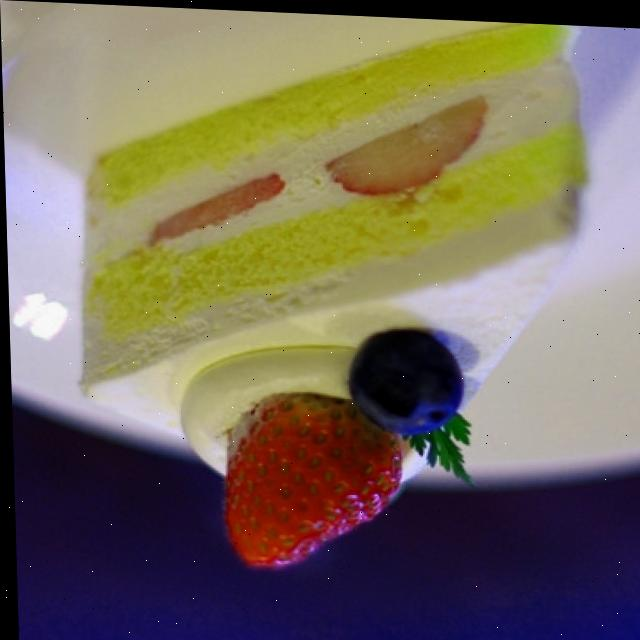蛋糕甜品: (22, 1, 640, 609)
